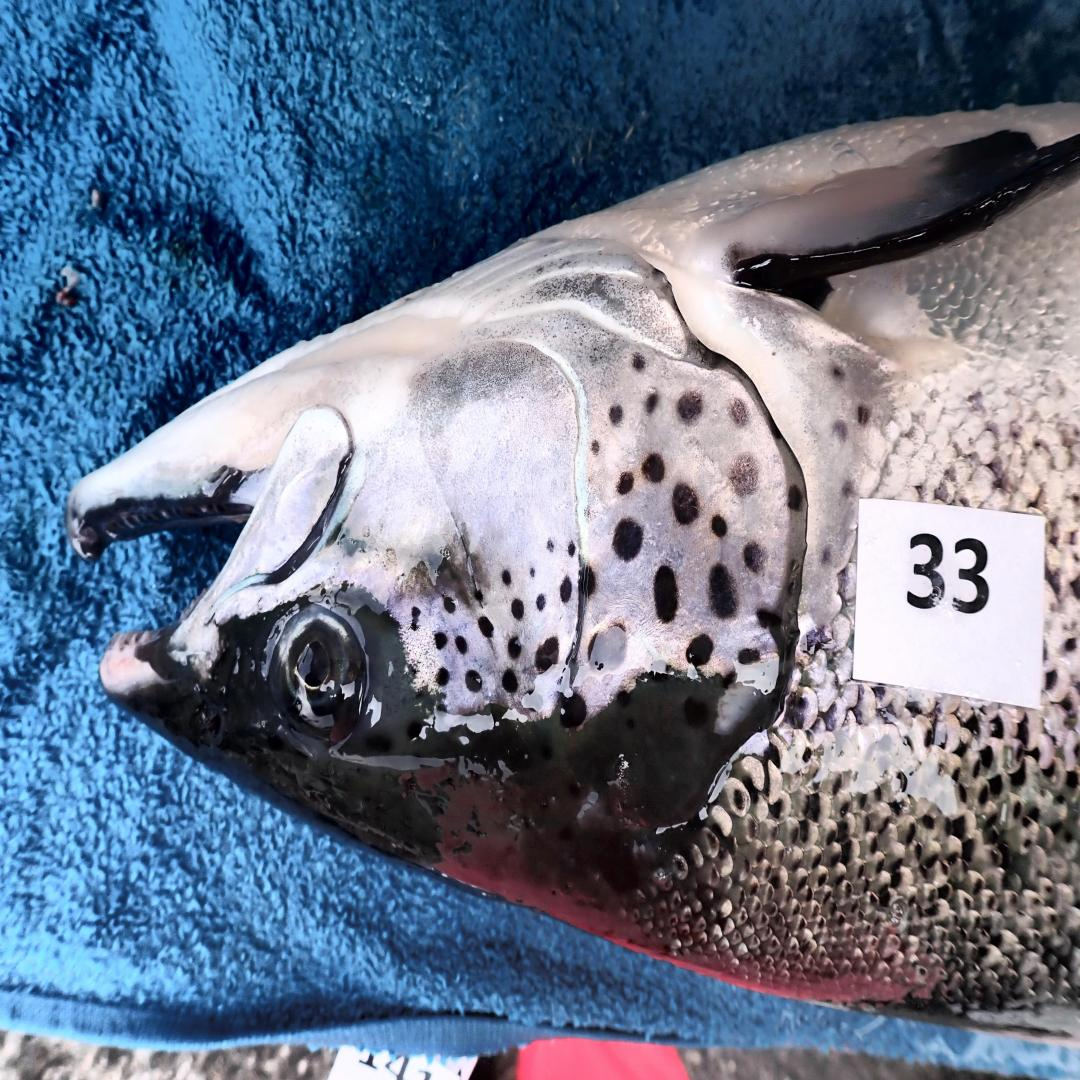spot: (588, 625, 627, 672), (709, 562, 738, 619), (654, 565, 679, 622), (730, 456, 759, 498), (614, 518, 643, 560), (673, 484, 700, 526), (757, 608, 783, 650), (686, 633, 713, 667), (561, 692, 586, 728), (536, 636, 559, 672), (677, 391, 702, 422), (742, 543, 766, 574), (641, 453, 664, 484), (728, 397, 749, 428), (578, 565, 595, 596), (738, 647, 761, 667), (502, 669, 519, 695), (616, 472, 635, 495), (464, 669, 483, 692), (711, 515, 728, 537), (506, 636, 523, 658), (559, 577, 572, 605), (788, 485, 802, 510), (645, 391, 660, 413), (479, 616, 494, 638), (510, 599, 525, 619), (610, 405, 624, 425), (631, 352, 645, 371), (456, 636, 468, 655), (437, 667, 449, 686), (435, 633, 447, 650), (443, 596, 455, 613), (411, 608, 420, 630), (536, 593, 546, 610), (546, 537, 555, 554), (474, 586, 483, 603), (591, 439, 599, 456), (502, 568, 510, 585), (568, 541, 576, 557), (529, 567, 535, 577)
